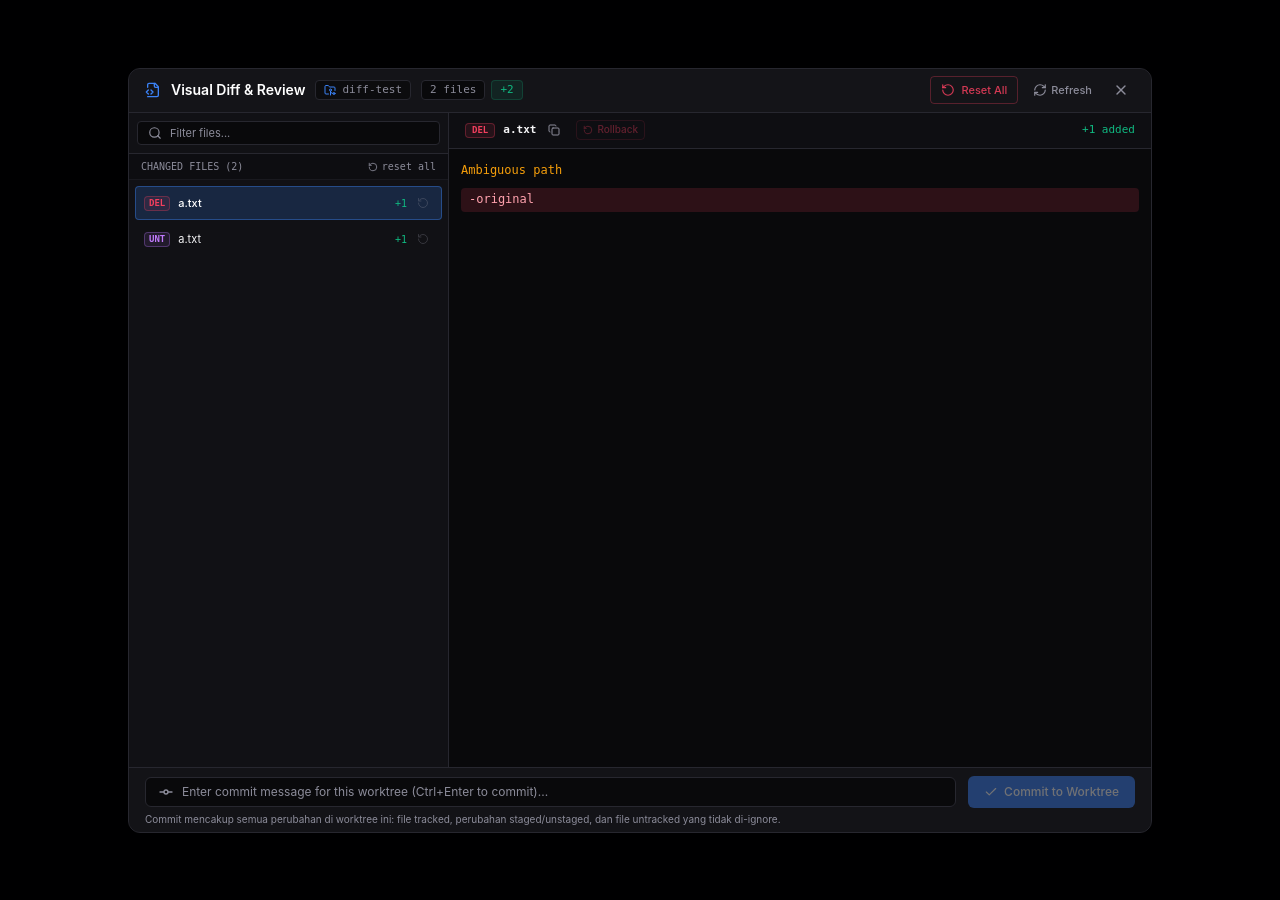
Test: distinguishes duplicate paths and disables ambiguous rollback
The width and height of the screenshot is (1280, 900).
Step 1. Click the text titled "Status: ??" → (157, 240), box [144,232,170,247]
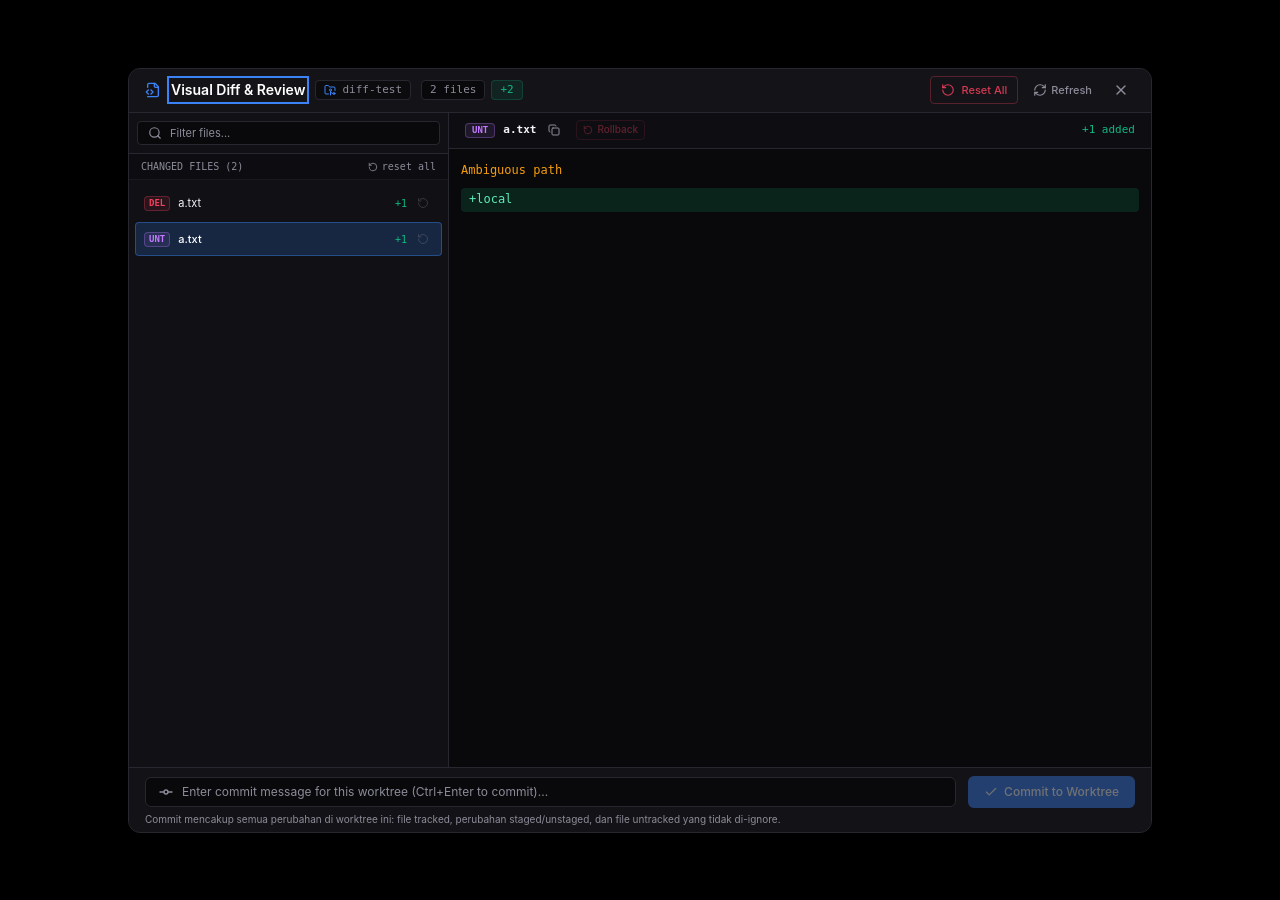
Result: the text "+local" is shown at [469,192,512,206]
